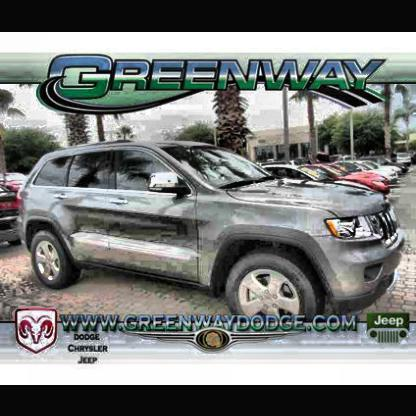Jeep Grand Cherokee SUV 2012: (21, 140, 408, 320)
